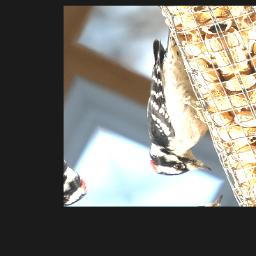Woodpecker: (100, 28, 232, 185)
